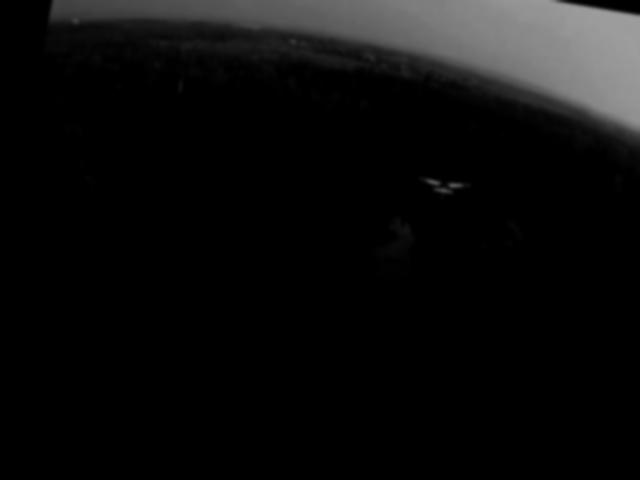hedef: (409, 174, 470, 219)
